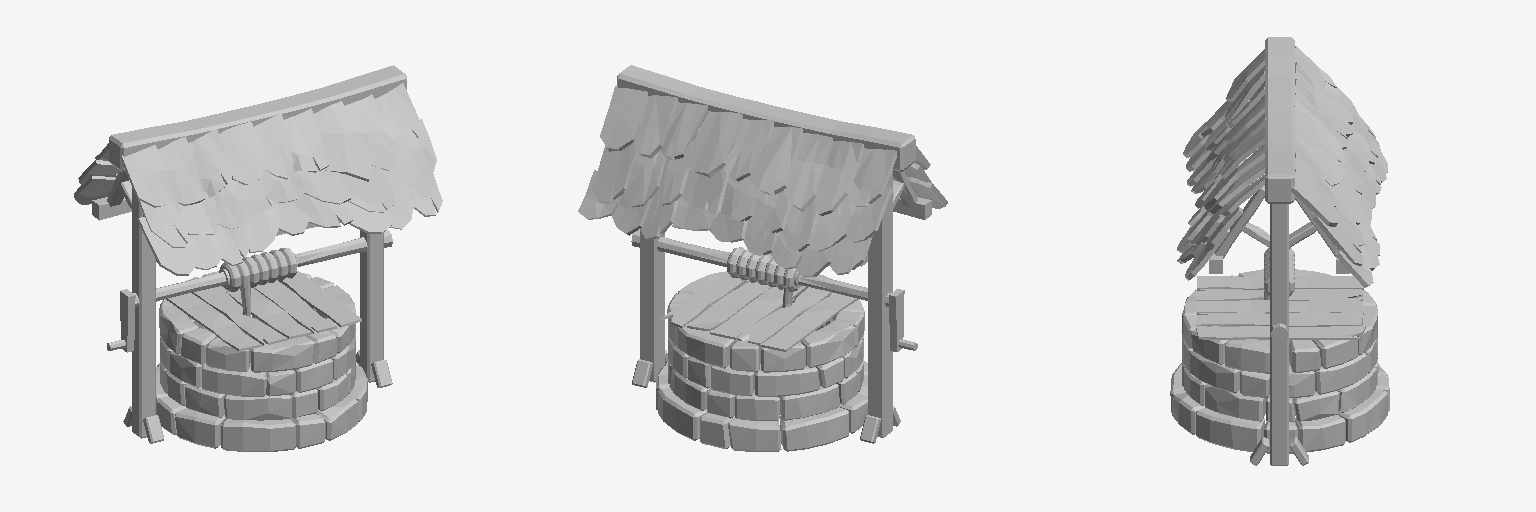
Rendered from well10.obj.
3 renders of one model, left to right at view 1: azimuth 30°, elevation 25°; view 2: azimuth 150°, elevation 25°; view 3: azimuth 270°, elevation 25°, orthographic.
Visible parts, largest first — view 1: Plane.000_Plane.057; view 2: Plane.000_Plane.057; view 3: Plane.000_Plane.057.
Boxes of the visible parts, x1,y1,x2,y2 form: Plane.000_Plane.057: [74, 65, 442, 451]; Plane.000_Plane.057: [578, 65, 947, 451]; Plane.000_Plane.057: [1170, 37, 1389, 465].
Size of the model in its own units: 22.64 by 22.25 by 14.56.